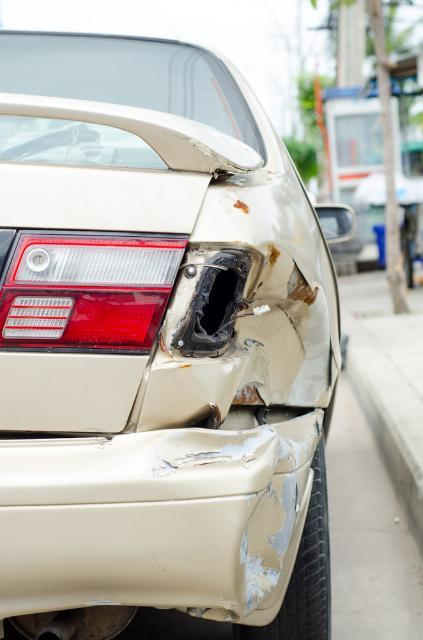dent: (230, 246, 330, 406), (236, 441, 298, 613)
no part: (149, 247, 256, 363)
